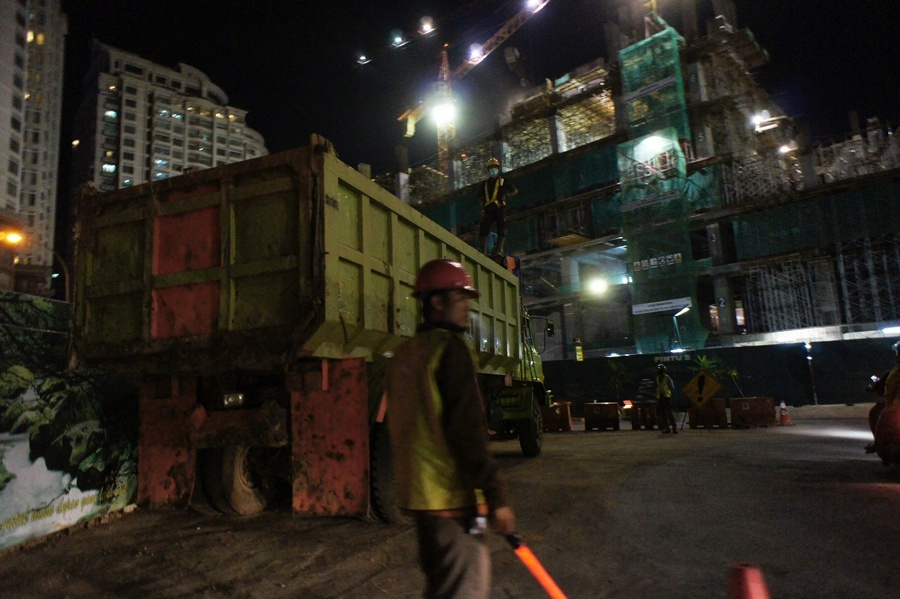red: (412, 256, 475, 330), (656, 363, 666, 374)
yellow: (485, 157, 500, 177)
